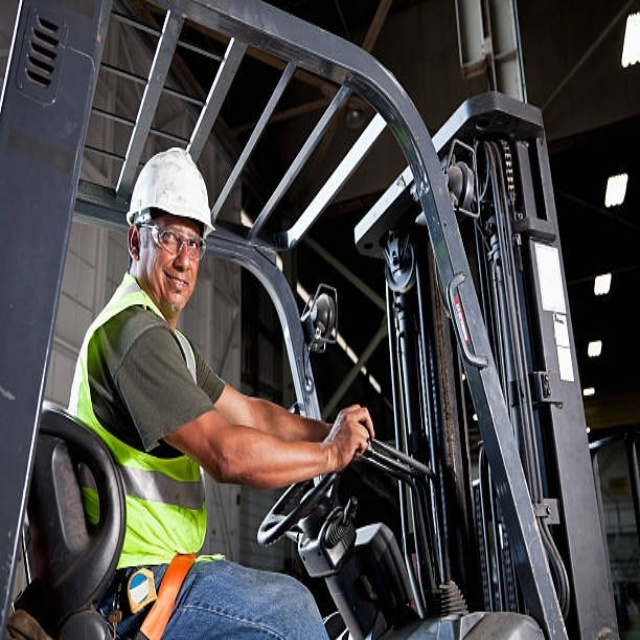Gafas: (141, 223, 207, 262)
Sin_guantes: (323, 397, 376, 472)
Sin_mascara: (158, 265, 195, 307)
